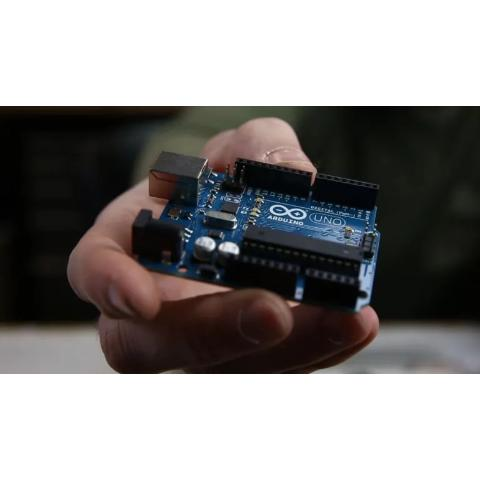Arduino-Uno: (130, 150, 382, 314)
